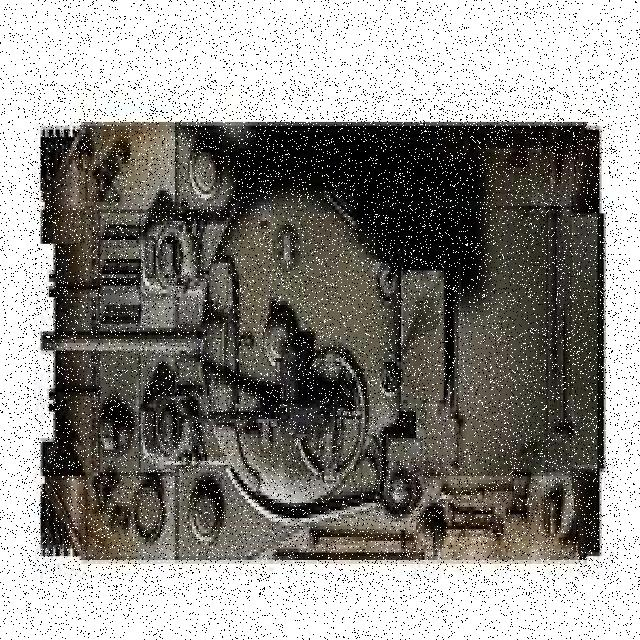MIL_MBT: (22, 84, 618, 598)
